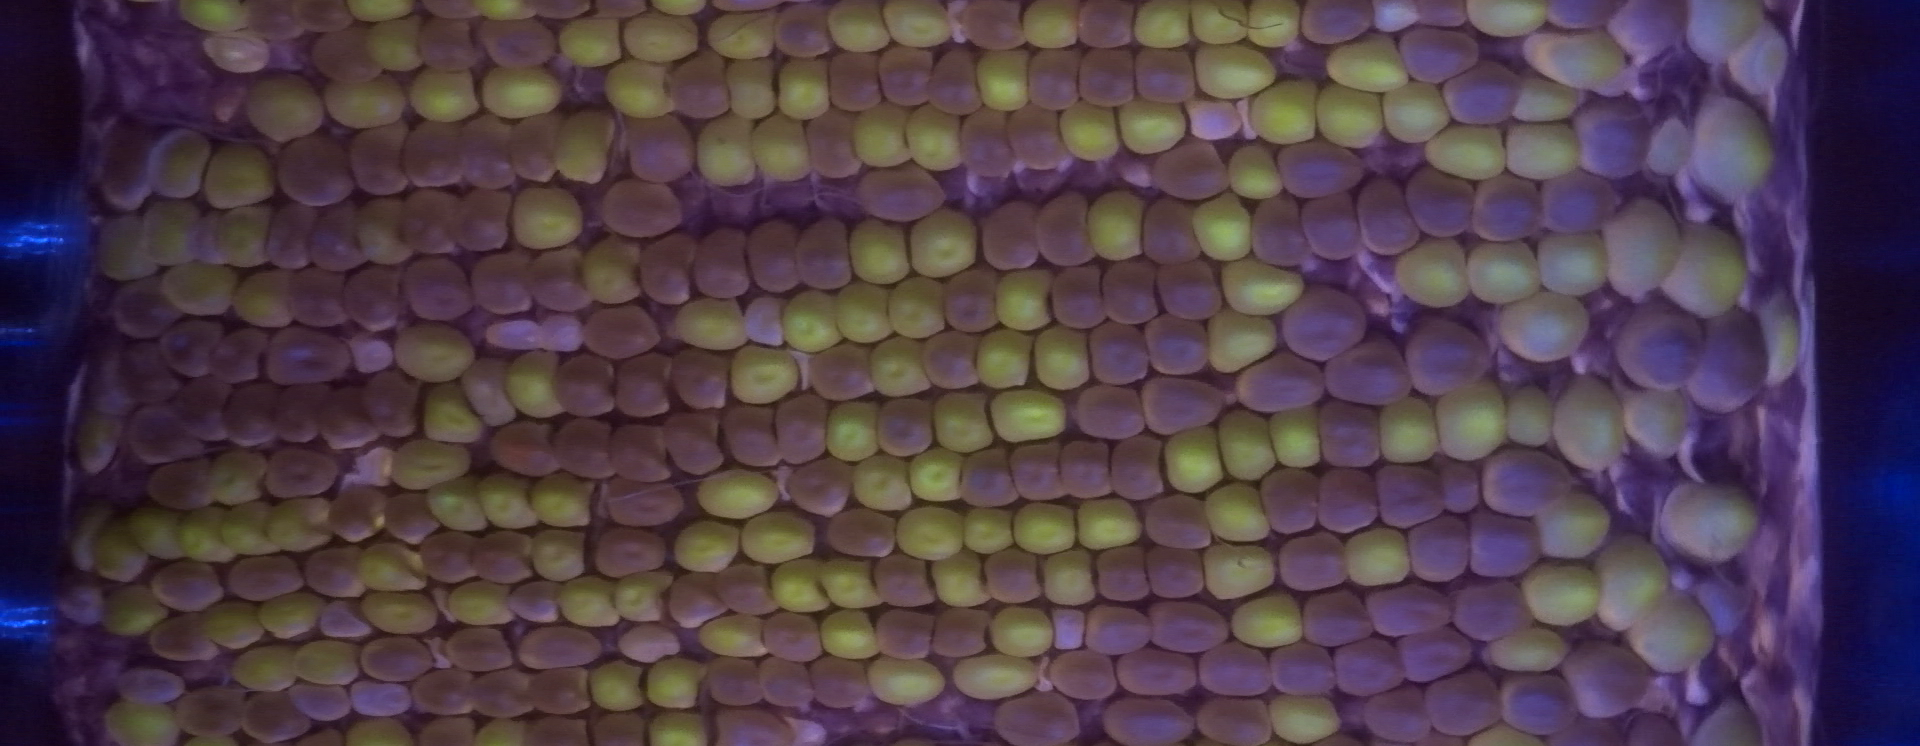fluorescent: (1686, 94, 1779, 212), (1616, 586, 1722, 681), (1663, 220, 1752, 325), (1659, 480, 1764, 568), (1550, 370, 1637, 475), (1600, 196, 1685, 299), (1591, 533, 1675, 635), (1490, 288, 1596, 369), (1522, 27, 1636, 94), (1435, 372, 1515, 468), (1528, 485, 1616, 567), (389, 316, 482, 387), (1520, 552, 1607, 628), (1216, 251, 1311, 320), (907, 205, 989, 283), (1395, 234, 1476, 312), (659, 292, 758, 355), (549, 107, 623, 191), (241, 71, 327, 145), (1618, 379, 1691, 464), (1321, 29, 1413, 97), (1204, 303, 1284, 379), (509, 179, 591, 254), (1723, 21, 1795, 104), (144, 125, 219, 205), (1534, 224, 1614, 299), (1753, 285, 1809, 393), (1684, 1, 1773, 67), (202, 140, 280, 214), (1190, 40, 1282, 104), (692, 462, 785, 524), (506, 349, 579, 428), (1244, 76, 1324, 148), (1198, 539, 1284, 605), (1420, 120, 1510, 184), (1502, 118, 1587, 185), (1082, 186, 1156, 263), (694, 111, 767, 190), (987, 383, 1076, 446), (420, 377, 493, 453), (1467, 236, 1543, 310), (1191, 189, 1262, 267), (1216, 401, 1280, 488), (520, 463, 602, 530), (480, 62, 568, 125), (1484, 620, 1580, 677), (351, 532, 436, 597), (583, 232, 651, 311), (387, 434, 473, 497), (1338, 521, 1418, 589), (1313, 83, 1389, 154), (879, 273, 955, 344), (471, 467, 547, 538), (725, 338, 802, 408), (931, 381, 1000, 458), (1029, 321, 1100, 396), (989, 266, 1067, 334), (1162, 421, 1229, 500), (1200, 481, 1280, 548), (160, 258, 242, 322), (96, 209, 168, 282), (949, 650, 1044, 704), (322, 72, 411, 130), (231, 265, 304, 336), (1379, 387, 1441, 469), (846, 450, 922, 517), (1226, 590, 1307, 653), (868, 650, 949, 713), (216, 496, 287, 567), (1262, 401, 1329, 477), (904, 99, 969, 176), (353, 191, 418, 268), (198, 590, 276, 655), (980, 601, 1059, 664), (849, 100, 917, 173), (1382, 78, 1455, 147), (849, 216, 917, 288), (972, 323, 1044, 392), (1114, 96, 1189, 162), (866, 332, 936, 402), (927, 541, 996, 612), (71, 401, 131, 481), (751, 111, 816, 186), (407, 64, 485, 125), (765, 551, 838, 617), (602, 64, 683, 122), (356, 584, 444, 638), (97, 697, 193, 746), (260, 495, 342, 552), (738, 510, 820, 567), (833, 278, 900, 348), (126, 500, 193, 570), (100, 579, 178, 639), (669, 517, 746, 577), (891, 505, 969, 565), (782, 289, 852, 355), (175, 501, 241, 571), (818, 1, 898, 59), (1009, 497, 1084, 559), (1073, 494, 1149, 554), (1684, 693, 1769, 746), (606, 563, 680, 625), (555, 13, 629, 73), (218, 203, 285, 269), (773, 54, 836, 124), (92, 518, 156, 588), (696, 608, 773, 665), (703, 9, 782, 64), (1058, 99, 1124, 165), (143, 202, 211, 267), (906, 441, 970, 510), (231, 639, 304, 699), (1224, 138, 1289, 205), (425, 475, 492, 539), (260, 586, 331, 646), (817, 552, 888, 612), (622, 12, 703, 65), (443, 575, 518, 631), (289, 635, 369, 687), (1460, 1, 1551, 47), (1510, 73, 1587, 127), (211, 443, 274, 508), (823, 394, 884, 462), (553, 570, 621, 631), (643, 653, 711, 713), (1038, 545, 1101, 610), (721, 55, 782, 121), (587, 657, 653, 718), (818, 608, 885, 668), (1269, 691, 1344, 744), (364, 18, 431, 77), (880, 1, 955, 53), (1504, 380, 1555, 454), (975, 49, 1035, 113), (1129, 1, 1198, 54), (530, 526, 590, 586), (70, 503, 116, 579), (960, 503, 1022, 560), (1240, 1, 1304, 53), (1018, 1, 1082, 51), (1182, 1, 1251, 48), (175, 1, 253, 39), (340, 713, 422, 746), (644, 708, 714, 746), (1464, 722, 1548, 746), (471, 713, 533, 746), (343, 1, 418, 24), (478, 1, 541, 27), (647, 1, 713, 21), (182, 731, 253, 746)
nonfluorescent: (1687, 307, 1766, 409), (1400, 314, 1490, 394), (1614, 306, 1703, 386), (97, 110, 163, 216), (1564, 642, 1647, 718), (1573, 92, 1647, 178), (1479, 450, 1570, 514), (273, 132, 351, 207), (1281, 287, 1367, 354), (1408, 163, 1474, 241), (624, 109, 694, 183), (1322, 343, 1417, 397), (1275, 142, 1367, 197), (853, 167, 943, 220), (1359, 174, 1419, 254), (602, 180, 684, 238), (1498, 676, 1580, 734), (1425, 671, 1501, 733), (1456, 582, 1534, 641), (1402, 24, 1478, 85), (126, 401, 201, 461), (1442, 65, 1520, 122), (1234, 361, 1329, 408), (1406, 514, 1469, 583), (1149, 141, 1229, 195), (638, 232, 697, 305), (263, 330, 349, 380), (1474, 176, 1540, 241), (362, 363, 419, 439), (320, 382, 381, 452), (481, 16, 558, 71), (468, 249, 534, 312), (1467, 513, 1536, 575), (612, 350, 672, 420), (1100, 697, 1191, 742), (992, 695, 1081, 741), (1319, 403, 1382, 468), (402, 257, 468, 320), (413, 13, 487, 69), (408, 118, 467, 187), (665, 407, 724, 477), (1336, 638, 1406, 697), (1609, 2, 1685, 56), (1151, 601, 1227, 655), (1540, 175, 1611, 233), (1367, 587, 1453, 633), (1041, 187, 1092, 266), (1149, 309, 1207, 377), (311, 29, 386, 83), (1071, 383, 1146, 437), (744, 219, 802, 289), (796, 216, 849, 292), (1139, 376, 1224, 423), (1251, 195, 1307, 267), (1007, 104, 1069, 168), (553, 416, 618, 478), (463, 118, 516, 192), (347, 265, 403, 334), (347, 131, 409, 194), (1158, 260, 1222, 321), (1379, 463, 1442, 524), (1089, 320, 1147, 386), (977, 202, 1035, 269), (1142, 198, 1198, 268), (962, 107, 1016, 178), (119, 339, 181, 401), (1280, 532, 1346, 589), (531, 246, 587, 315), (1302, 190, 1357, 258), (580, 307, 654, 359), (806, 345, 874, 401), (1116, 649, 1199, 695), (287, 267, 347, 330), (160, 320, 224, 379), (610, 423, 673, 481), (602, 477, 681, 524), (1264, 465, 1316, 537), (239, 691, 310, 744), (1398, 626, 1471, 677), (806, 110, 861, 178), (696, 227, 749, 295), (789, 457, 852, 514), (404, 186, 456, 257), (1363, 688, 1431, 741), (1134, 47, 1196, 104), (88, 345, 140, 415), (673, 55, 729, 120), (1149, 492, 1213, 548), (449, 187, 508, 247), (1303, 594, 1371, 646), (178, 380, 235, 441), (557, 353, 612, 416), (264, 200, 315, 269), (1082, 603, 1152, 653), (222, 383, 274, 450), (1322, 464, 1375, 530), (931, 45, 978, 118), (489, 424, 561, 472), (1200, 646, 1272, 693), (726, 404, 782, 465), (828, 510, 896, 560), (274, 379, 329, 441), (516, 627, 600, 668), (958, 450, 1015, 508), (983, 548, 1043, 604), (1102, 262, 1157, 323), (416, 532, 480, 584), (879, 42, 931, 107), (360, 635, 433, 680), (171, 687, 245, 733), (1049, 649, 1116, 699), (669, 352, 729, 407), (111, 279, 173, 333), (310, 205, 360, 269), (598, 530, 667, 577), (924, 330, 980, 388), (1009, 445, 1068, 500), (1054, 267, 1104, 331), (774, 5, 831, 60), (151, 562, 220, 608), (324, 484, 384, 537), (149, 612, 216, 660), (1272, 643, 1333, 695), (945, 269, 996, 332), (1080, 47, 1134, 104), (1111, 440, 1164, 497), (1300, 1, 1373, 44), (267, 451, 339, 494), (509, 116, 556, 183), (474, 533, 535, 583), (447, 626, 514, 671), (716, 561, 774, 614), (879, 398, 938, 450), (230, 557, 305, 598), (1201, 702, 1273, 744), (1029, 49, 1078, 110), (716, 704, 791, 744), (927, 608, 989, 654), (1093, 548, 1149, 600), (776, 401, 828, 457), (1065, 442, 1113, 502), (827, 54, 880, 107), (760, 616, 823, 661), (1149, 545, 1205, 595), (962, 1, 1022, 48), (1544, 710, 1622, 746), (814, 654, 866, 708), (214, 330, 269, 380), (673, 570, 722, 626), (876, 557, 932, 606), (475, 670, 533, 718), (704, 657, 763, 703), (1435, 458, 1483, 514), (876, 611, 933, 658), (1621, 706, 1687, 746), (530, 665, 587, 712), (305, 548, 362, 593), (411, 673, 474, 713), (147, 469, 216, 506), (587, 707, 650, 746), (520, 710, 590, 746), (1080, 1, 1134, 47), (760, 661, 811, 709), (411, 710, 478, 746), (387, 494, 430, 541), (1544, 2, 1616, 31), (291, 1, 360, 29), (253, 1, 307, 36), (516, 581, 557, 624), (1413, 1, 1468, 29)
